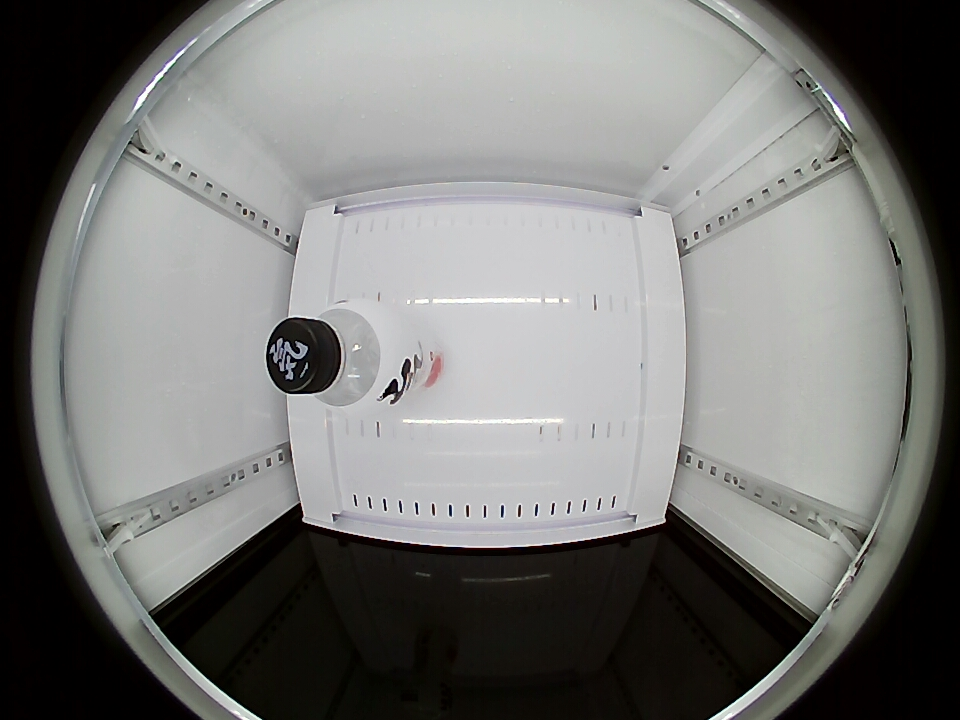yuanqishui: (267, 300, 400, 408)
